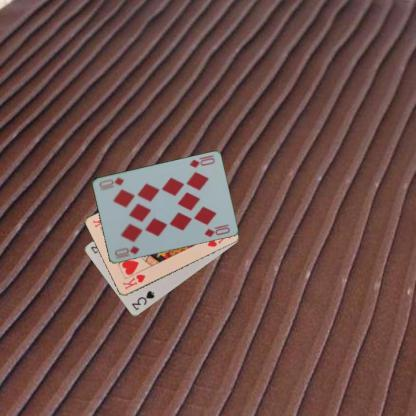10d: (187, 152, 216, 170), (112, 243, 140, 261)
3s: (130, 288, 156, 312)
Kh: (120, 272, 147, 290)
